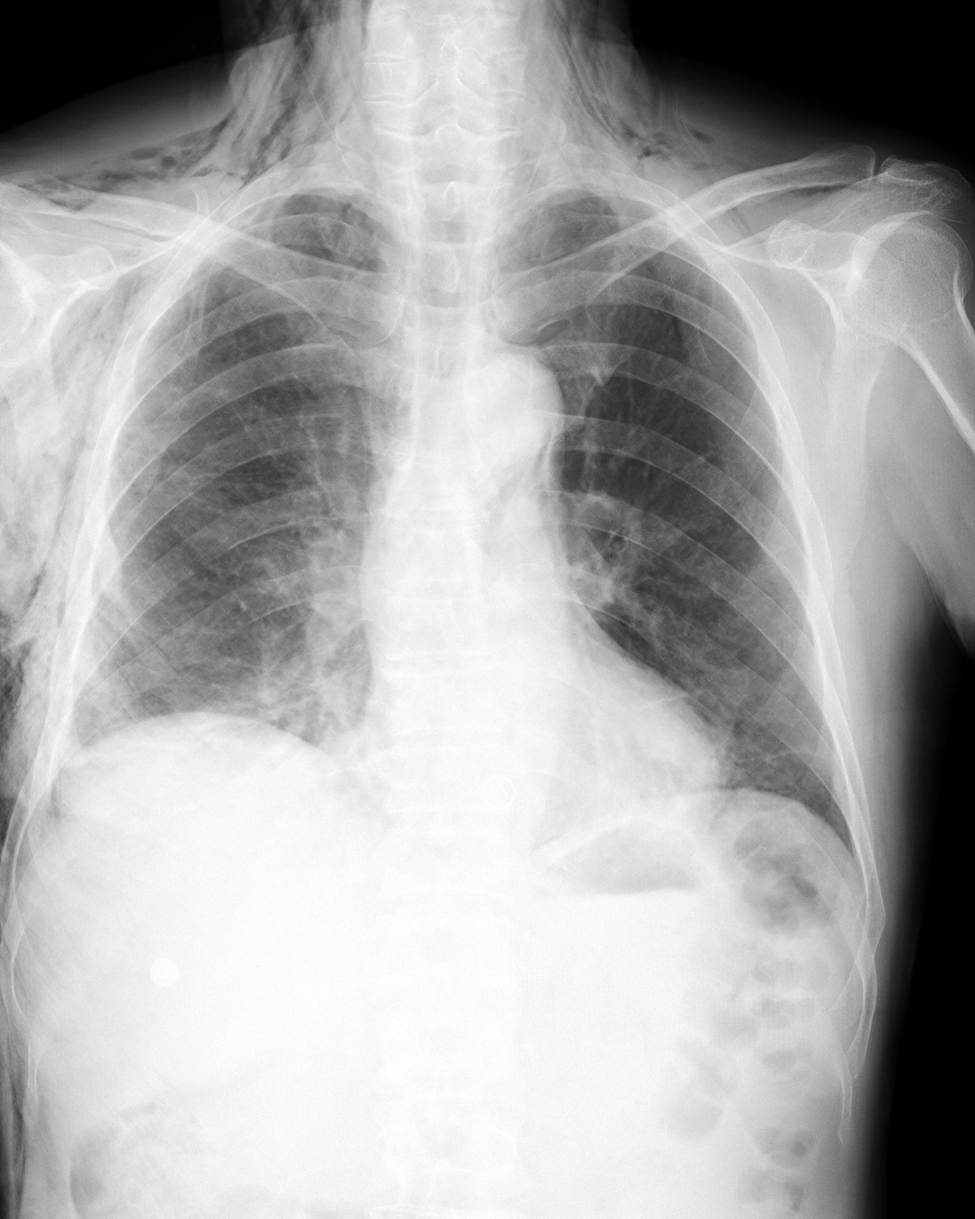Pleural thickening: (19, 733, 115, 850)
Pulmonary fibrosis: (760, 736, 837, 771)
